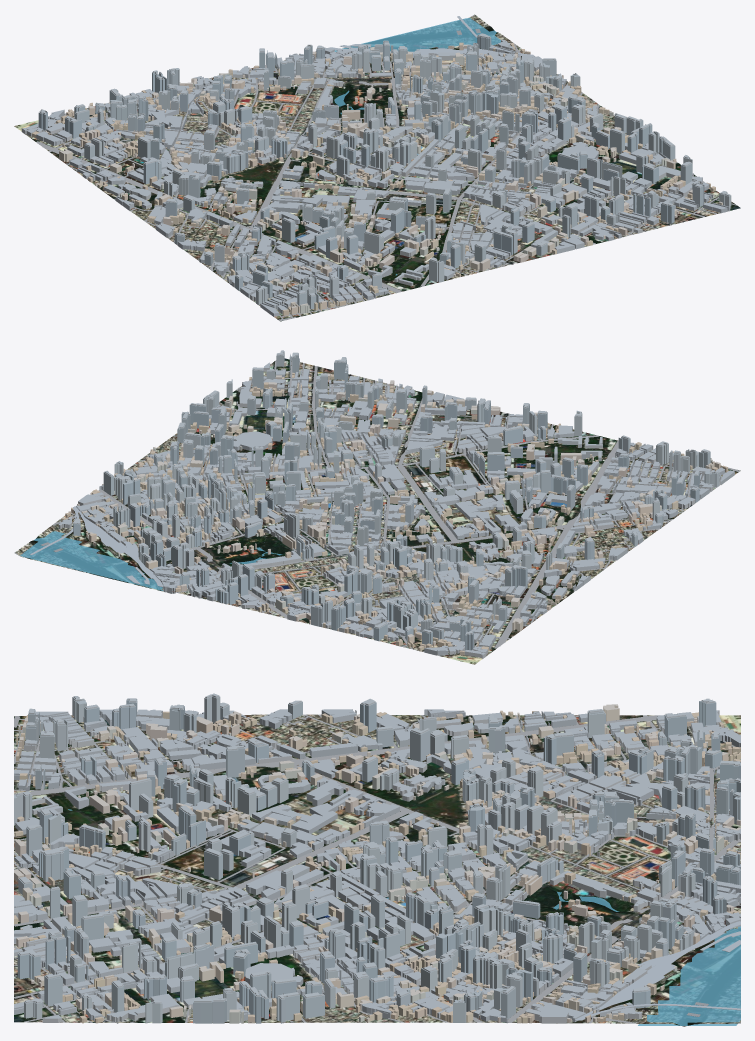
3 renders of one model, top to bottom at view 1: azimuth 30°, elevation 25°; view 2: azimuth 150°, elevation 25°; view 3: azimuth 270°, elevation 25°, orthographic. The views are drawn at different scales.
Parts seen in each view (by area): view 1: BLDG_MODERN_TOWER, BLDG_INDUSTRIAL_PORT, TERRAIN, BLDG_TUBE_HOUSE, BLDG_SHOPHOUSE, ROAD_METRO, WATER; view 2: BLDG_MODERN_TOWER, BLDG_INDUSTRIAL_PORT, TERRAIN, BLDG_TUBE_HOUSE, ROAD_METRO, BLDG_SHOPHOUSE, WATER; view 3: BLDG_MODERN_TOWER, BLDG_INDUSTRIAL_PORT, TERRAIN, BLDG_TUBE_HOUSE, BLDG_SHOPHOUSE, ROAD_METRO, WATER.
Boxes of the visible parts, x1,y1,x2,y2 form: BLDG_MODERN_TOWER: (38, 33, 731, 309); BLDG_INDUSTRIAL_PORT: (21, 39, 730, 316); TERRAIN: (14, 14, 740, 321); BLDG_TUBE_HOUSE: (44, 44, 722, 314); BLDG_SHOPHOUSE: (31, 42, 715, 315); ROAD_METRO: (36, 14, 736, 320); WATER: (334, 18, 500, 275); BLDG_MODERN_TOWER: (73, 350, 719, 650); BLDG_INDUSTRIAL_PORT: (58, 356, 734, 658); TERRAIN: (15, 358, 740, 664); BLDG_TUBE_HOUSE: (68, 361, 720, 647); ROAD_METRO: (14, 360, 740, 655); BLDG_SHOPHOUSE: (61, 372, 727, 655); WATER: (20, 531, 282, 590); BLDG_MODERN_TOWER: (14, 693, 740, 1023); BLDG_INDUSTRIAL_PORT: (14, 709, 740, 1023); TERRAIN: (14, 714, 740, 1026); BLDG_TUBE_HOUSE: (14, 704, 740, 1023); BLDG_SHOPHOUSE: (14, 710, 740, 1023); ROAD_METRO: (14, 714, 740, 1023); WATER: (68, 809, 740, 1025).
Bounding box in the file's own units: 2000 × 102 × 2000.
7 materials, 1 textured.
